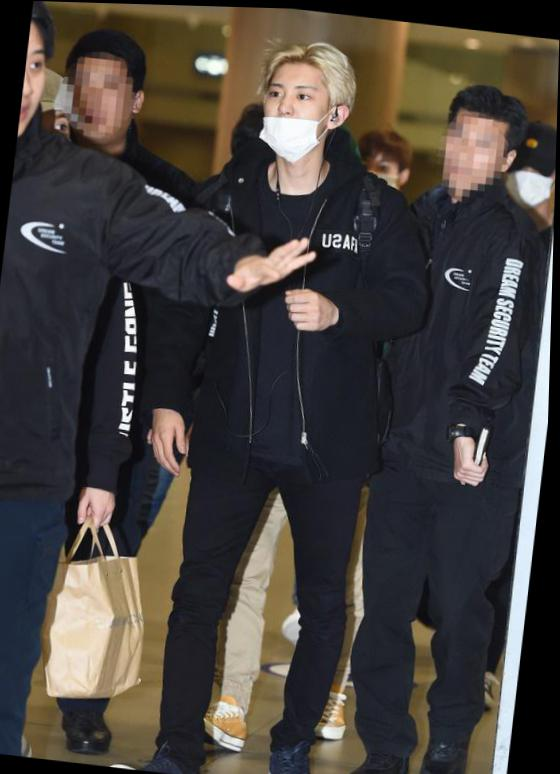NONE: (19, 41, 53, 139)
OK: (505, 150, 557, 210)
WRONG: (261, 75, 348, 162)
